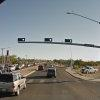Traffic light: (11, 25, 73, 52)
